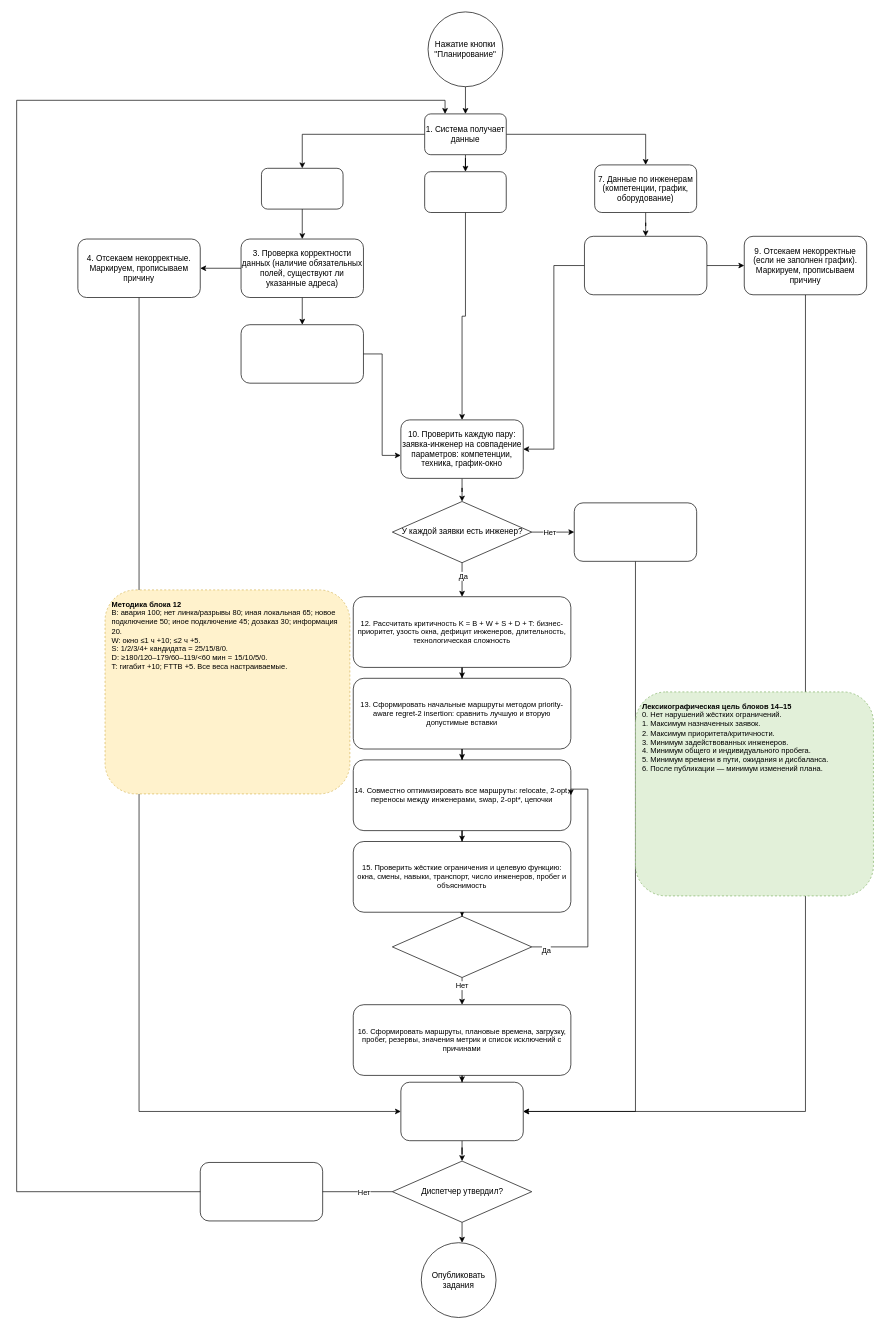
Some shapes in this 885 by 1329 pixel diagram are drawn without their labels. Each missing label, with the centre of its shape:
11. Отсекаем нераспределенные заявки. Маркируем и указываем причину: (x=635, y=531)
17. Вывести все маршруты и исключенные заявки на проверку диспетчеру: (x=461, y=1111)
18. Зафиксировать ручные корректировки и провести расчет: (x=261, y=1191)
2. Данные по заявкам: (x=302, y=188)
5. Геокодирование адреса: (x=301, y=353)
6. Данные справочника с нормативами: (x=465, y=192)
8. Проверка корректности данных (есть ли график): (x=645, y=265)
Есть нарушения или найдено улучшение?: (x=462, y=947)
